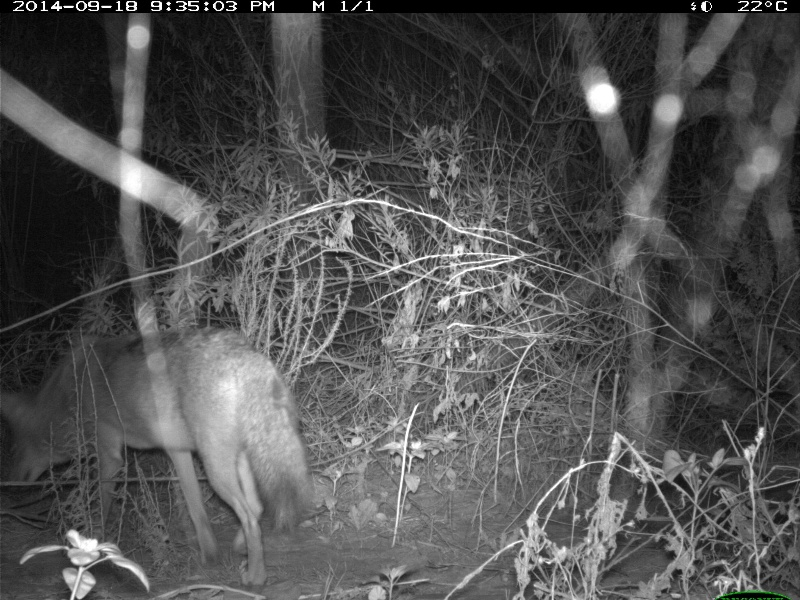coyote: (2, 332, 309, 580)
